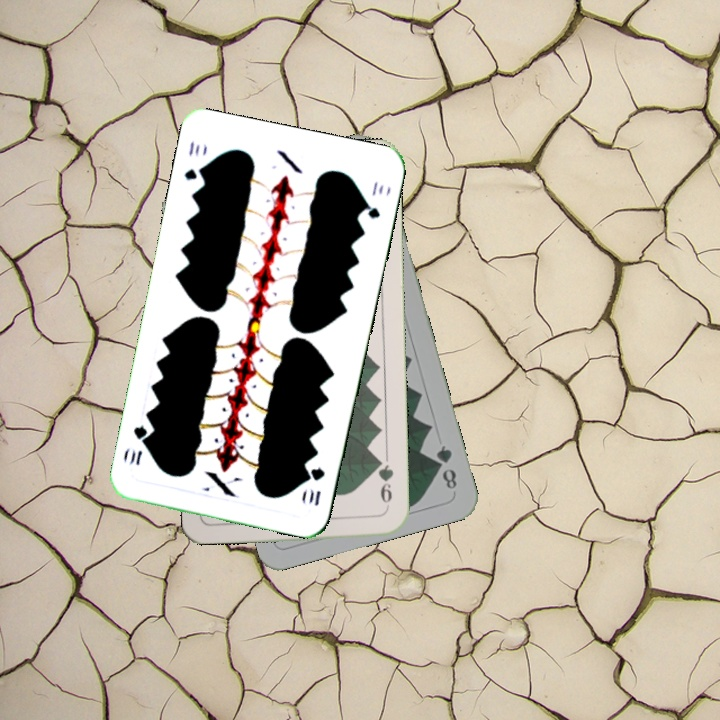G10: (180, 136, 208, 183), (305, 463, 327, 508)
G8: (432, 441, 460, 492)
G9: (373, 454, 396, 513)
